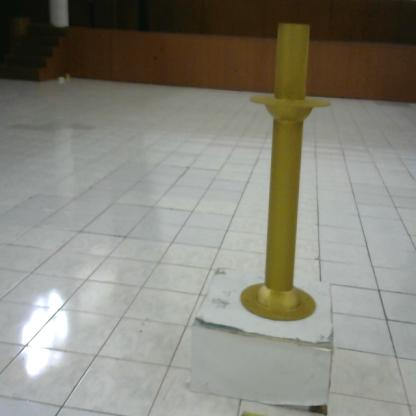pole: (230, 2, 346, 330)
